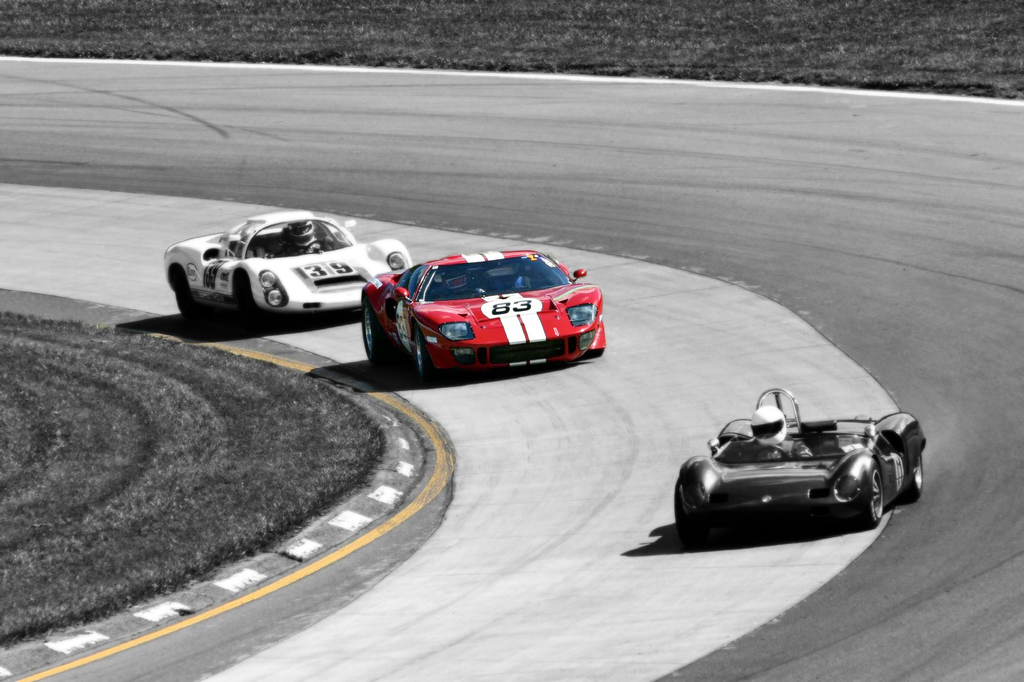Car: (671, 380, 928, 552), (359, 242, 609, 384), (163, 208, 416, 329)
